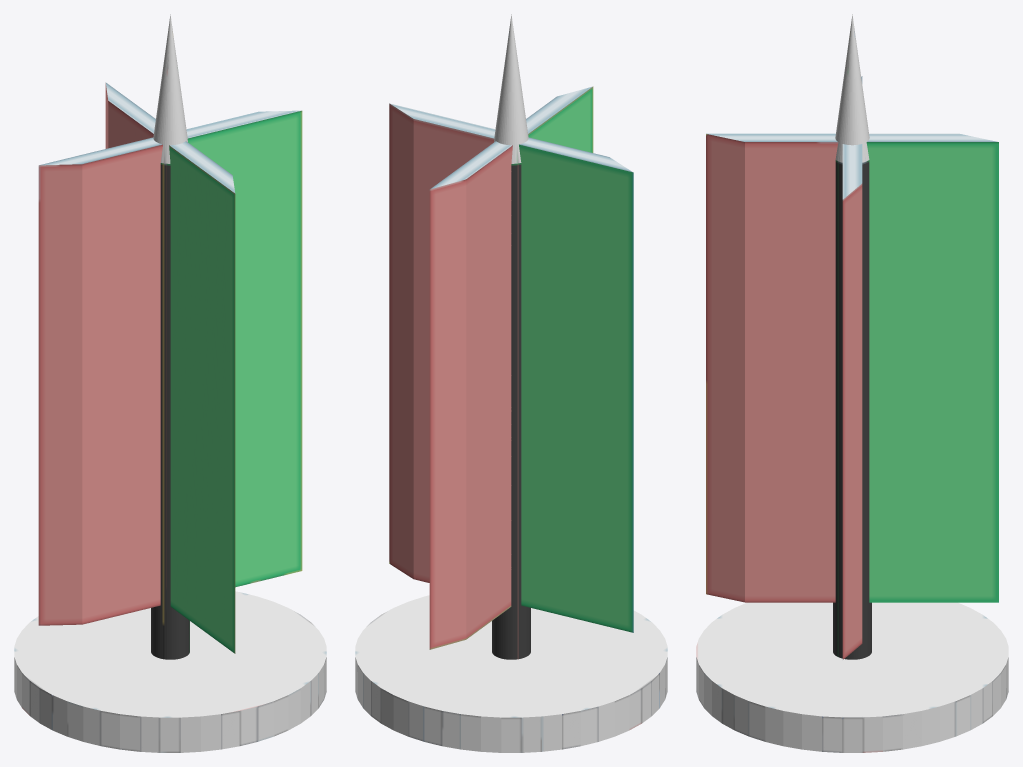
The model's file is windmill_inventory.obj.
3 renders of one model, left to right at view 1: azimuth 30°, elevation 25°; view 2: azimuth 150°, elevation 25°; view 3: azimuth 270°, elevation 25°, orthographic.
Parts seen in each view (by area): view 1: cube, cylinder, cone; view 2: cube, cylinder, cone; view 3: cube, cylinder, cone.
Boxes of the visible parts, x1,y1,x2,y2 form: cube: (38,82,302,653); cylinder: (14,163,326,752); cone: (153,14,187,163); cube: (389,86,633,649); cylinder: (355,163,667,752); cone: (494,14,528,163); cube: (706,76,998,659); cylinder: (696,160,1008,752); cone: (835,14,869,162).
Bounding box in the file's own units: 1 × 2.38 × 1.
